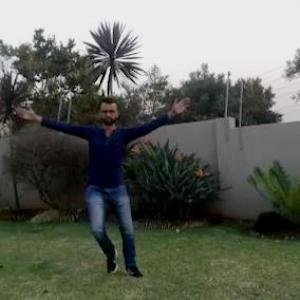takeoff: (8, 108, 185, 274)
